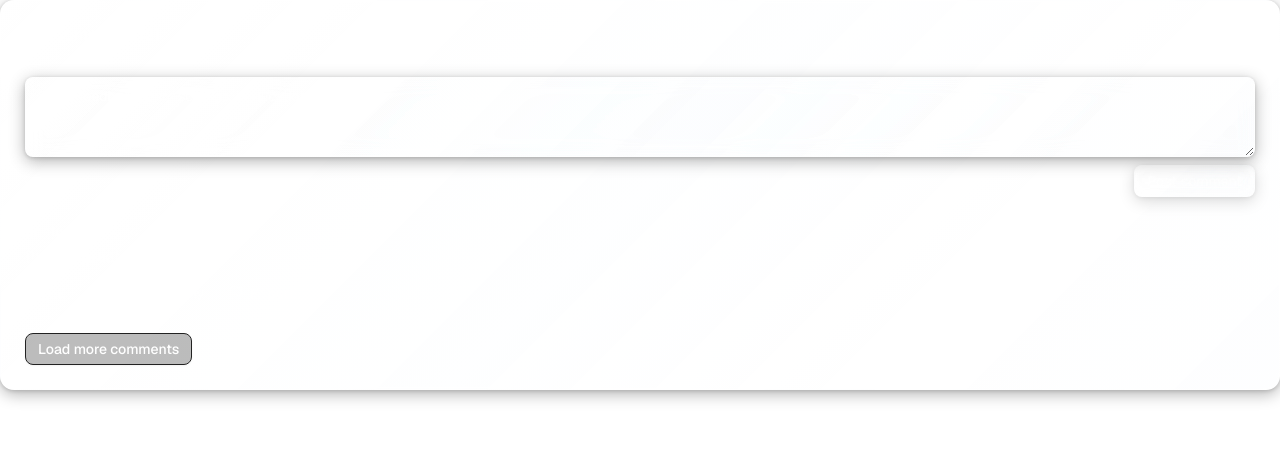
Test: ModelComments › offers to load more when there are further pages
This screenshot has width=1280, height=475.
Step 1. Click the button "Load more comments" → (109, 349), box [25,333,192,365]
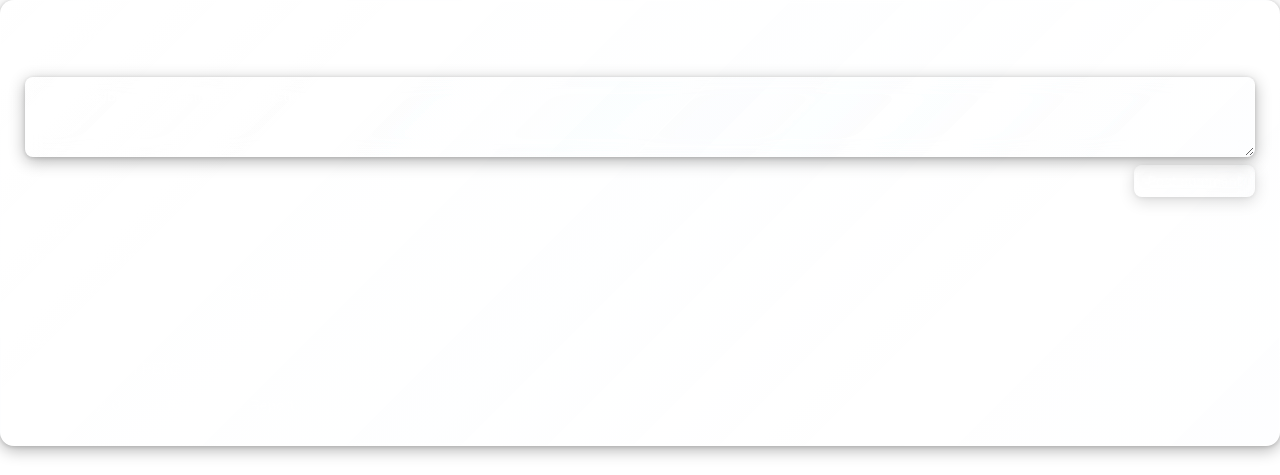
Check: the button "Load more comments" is gone
